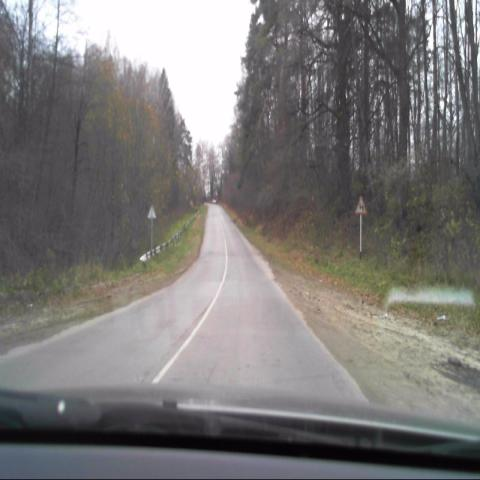1_12_2: (355, 193, 366, 214)
